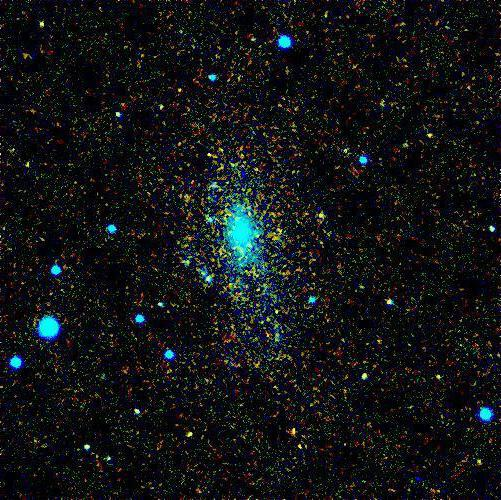star: (300, 195, 330, 225)
